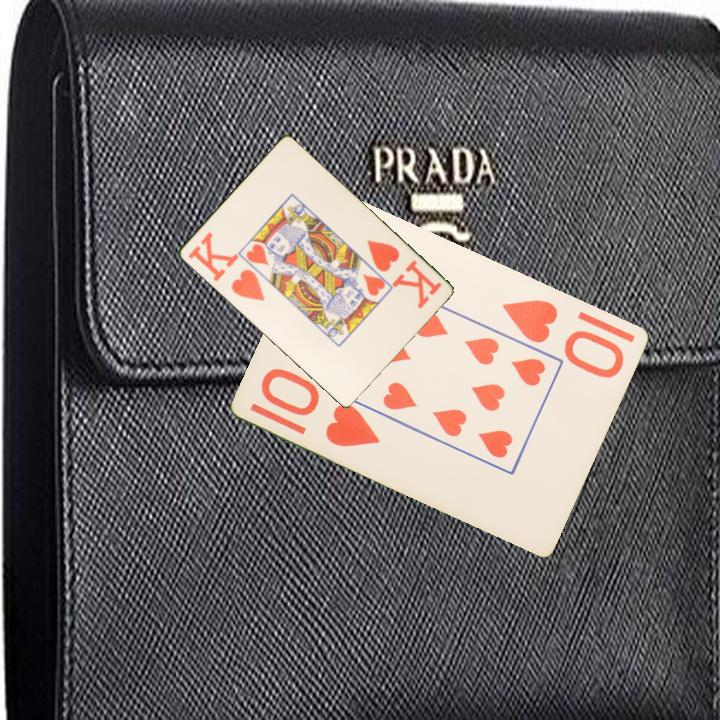10h: (498, 295, 628, 381), (257, 366, 384, 450)
Kh: (184, 228, 267, 304), (363, 236, 444, 312)
